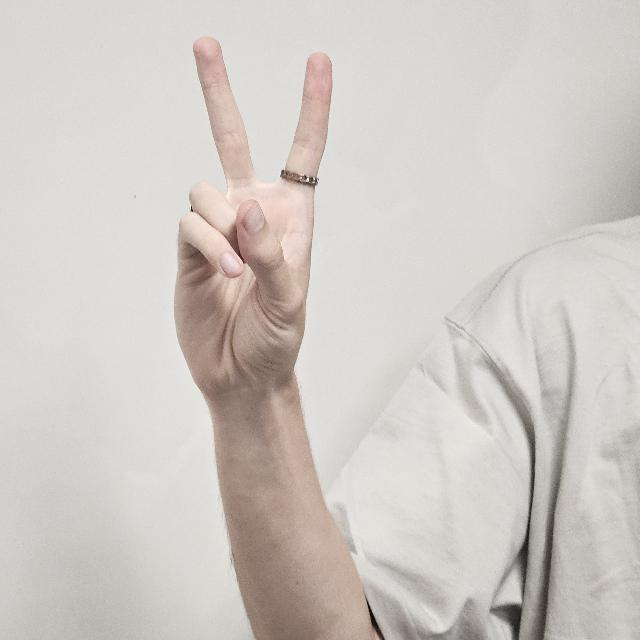Triangulo: (168, 35, 346, 392)
